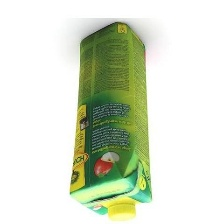carton: (65, 18, 158, 224)
